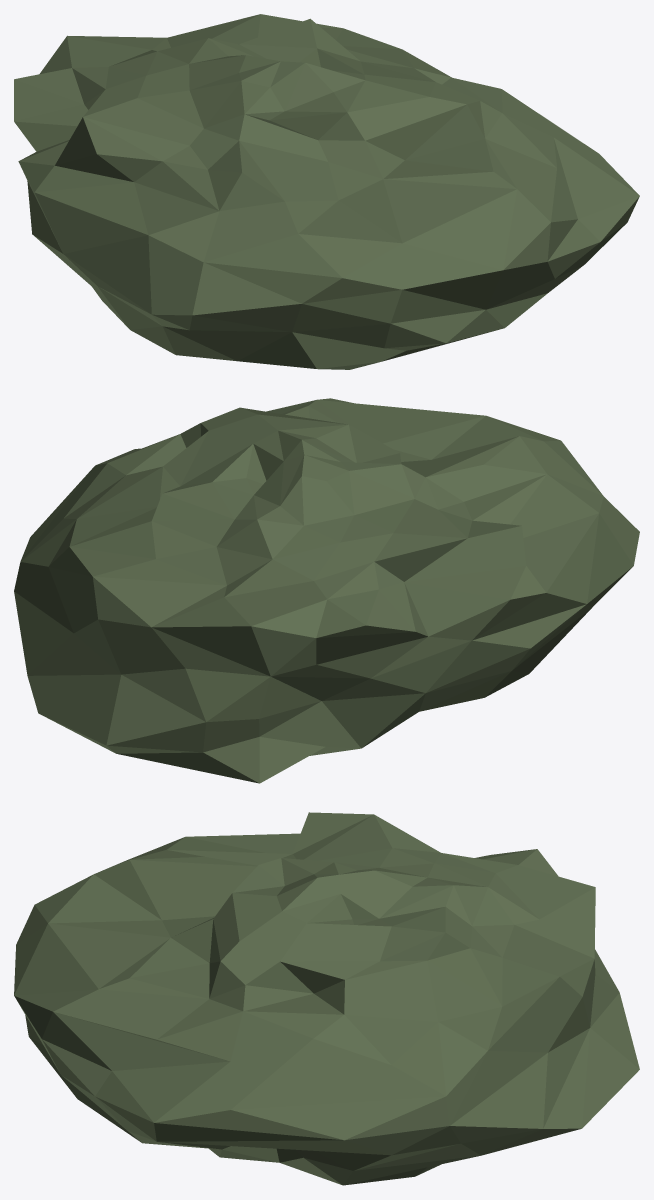
Rendered from S0.stone8.glb.
3 renders of one model, top to bottom at view 1: azimuth 30°, elevation 25°; view 2: azimuth 150°, elevation 25°; view 3: azimuth 270°, elevation 25°, orthographic. The views are drawn at different scales.
Visible parts, largest first — view 1: Landscape.014; view 2: Landscape.014; view 3: Landscape.014.
Boxes of the visible parts, x1,y1,x2,y2 form: Landscape.014: (14, 14, 639, 369); Landscape.014: (14, 398, 639, 783); Landscape.014: (14, 812, 639, 1185).
Bounding box in the file's own units: 4.11 × 1.94 × 4.47.
